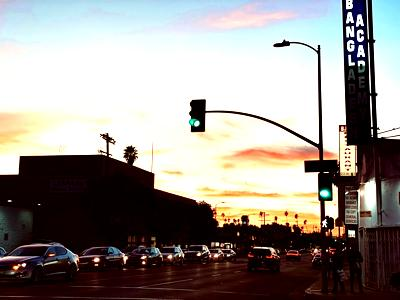International Road Signal Light: (189, 98, 205, 132), (318, 173, 333, 201)
